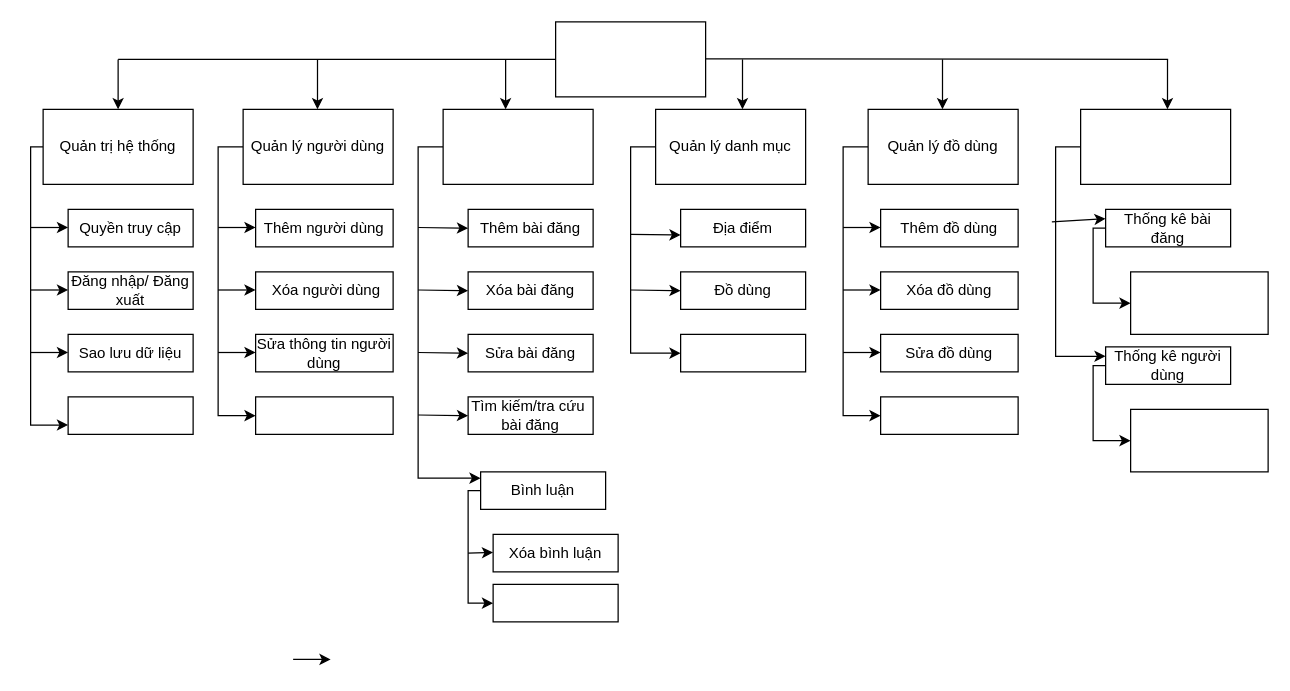
Image size: 1290x691. Some labels were removed from this diagram. The box of each missing label's shape, as (x1, y1, x2, y2) in pixels:
Báo cáo-thống kê: (1079, 108, 1231, 184)
Các quy định: (679, 333, 806, 372)
Phục hồi dữ liệu: (67, 396, 193, 434)
Quản lý bài đăng: (442, 108, 593, 184)
Sửa bình luận: (492, 583, 618, 622)
Thống kê số lượng bài đăng theo tháng: (1129, 271, 1268, 334)
Thống kê số lượng người dùng theo tháng: (1129, 408, 1268, 472)
Tìm kiếm/tra cứu người dùng: (254, 396, 393, 434)
Tìm kiếm/tra cứu đồ dùng dùng: (879, 396, 1018, 434)
Đề tài ứng dụng tìm đồ thất lạc: (554, 21, 706, 97)
